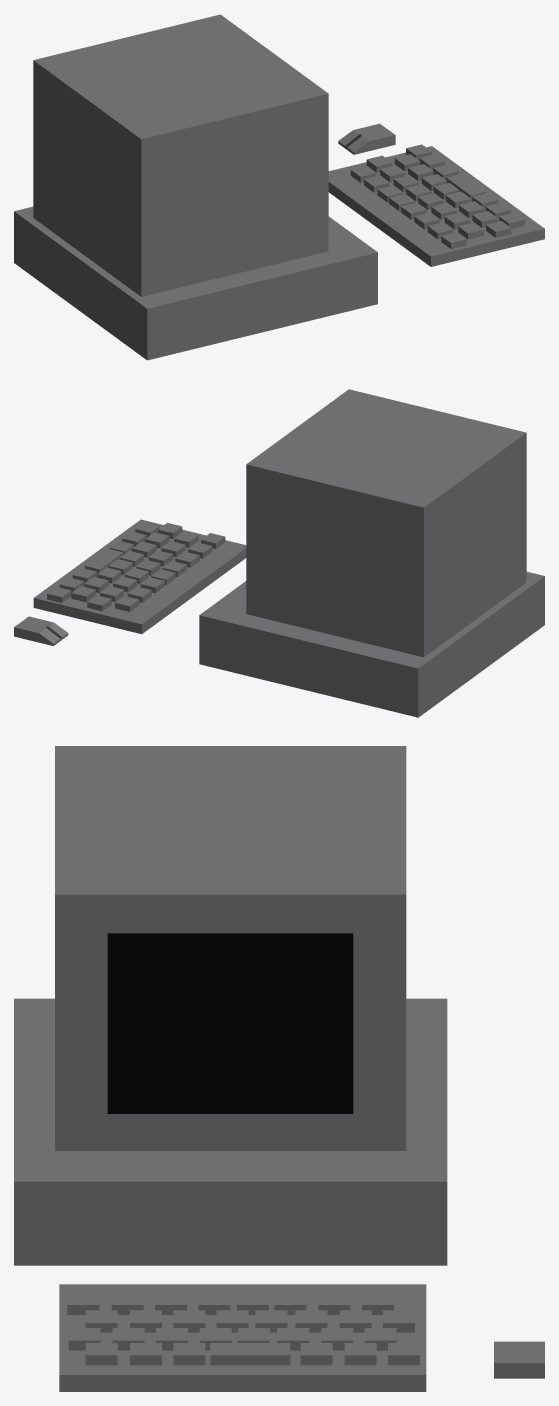
The model's file is portfolio-computer.glb.
3 views of the same model, one above another, from view 1: azimuth 30°, elevation 25°; view 2: azimuth 150°, elevation 25°; view 3: azimuth 270°, elevation 25° (orthographic). The views are drawn at different scales.
Parts seen in each view (by area): view 1: PC; view 2: PC; view 3: PC.
Part boxes in pixels (bbox=[...]): PC: bbox=[14, 14, 544, 360]; PC: bbox=[14, 389, 544, 717]; PC: bbox=[14, 746, 544, 1391].
Bounding box in the file's own units: 3.57 × 1.74 × 2.45.
Materials: 6 (6 with a texture image).
